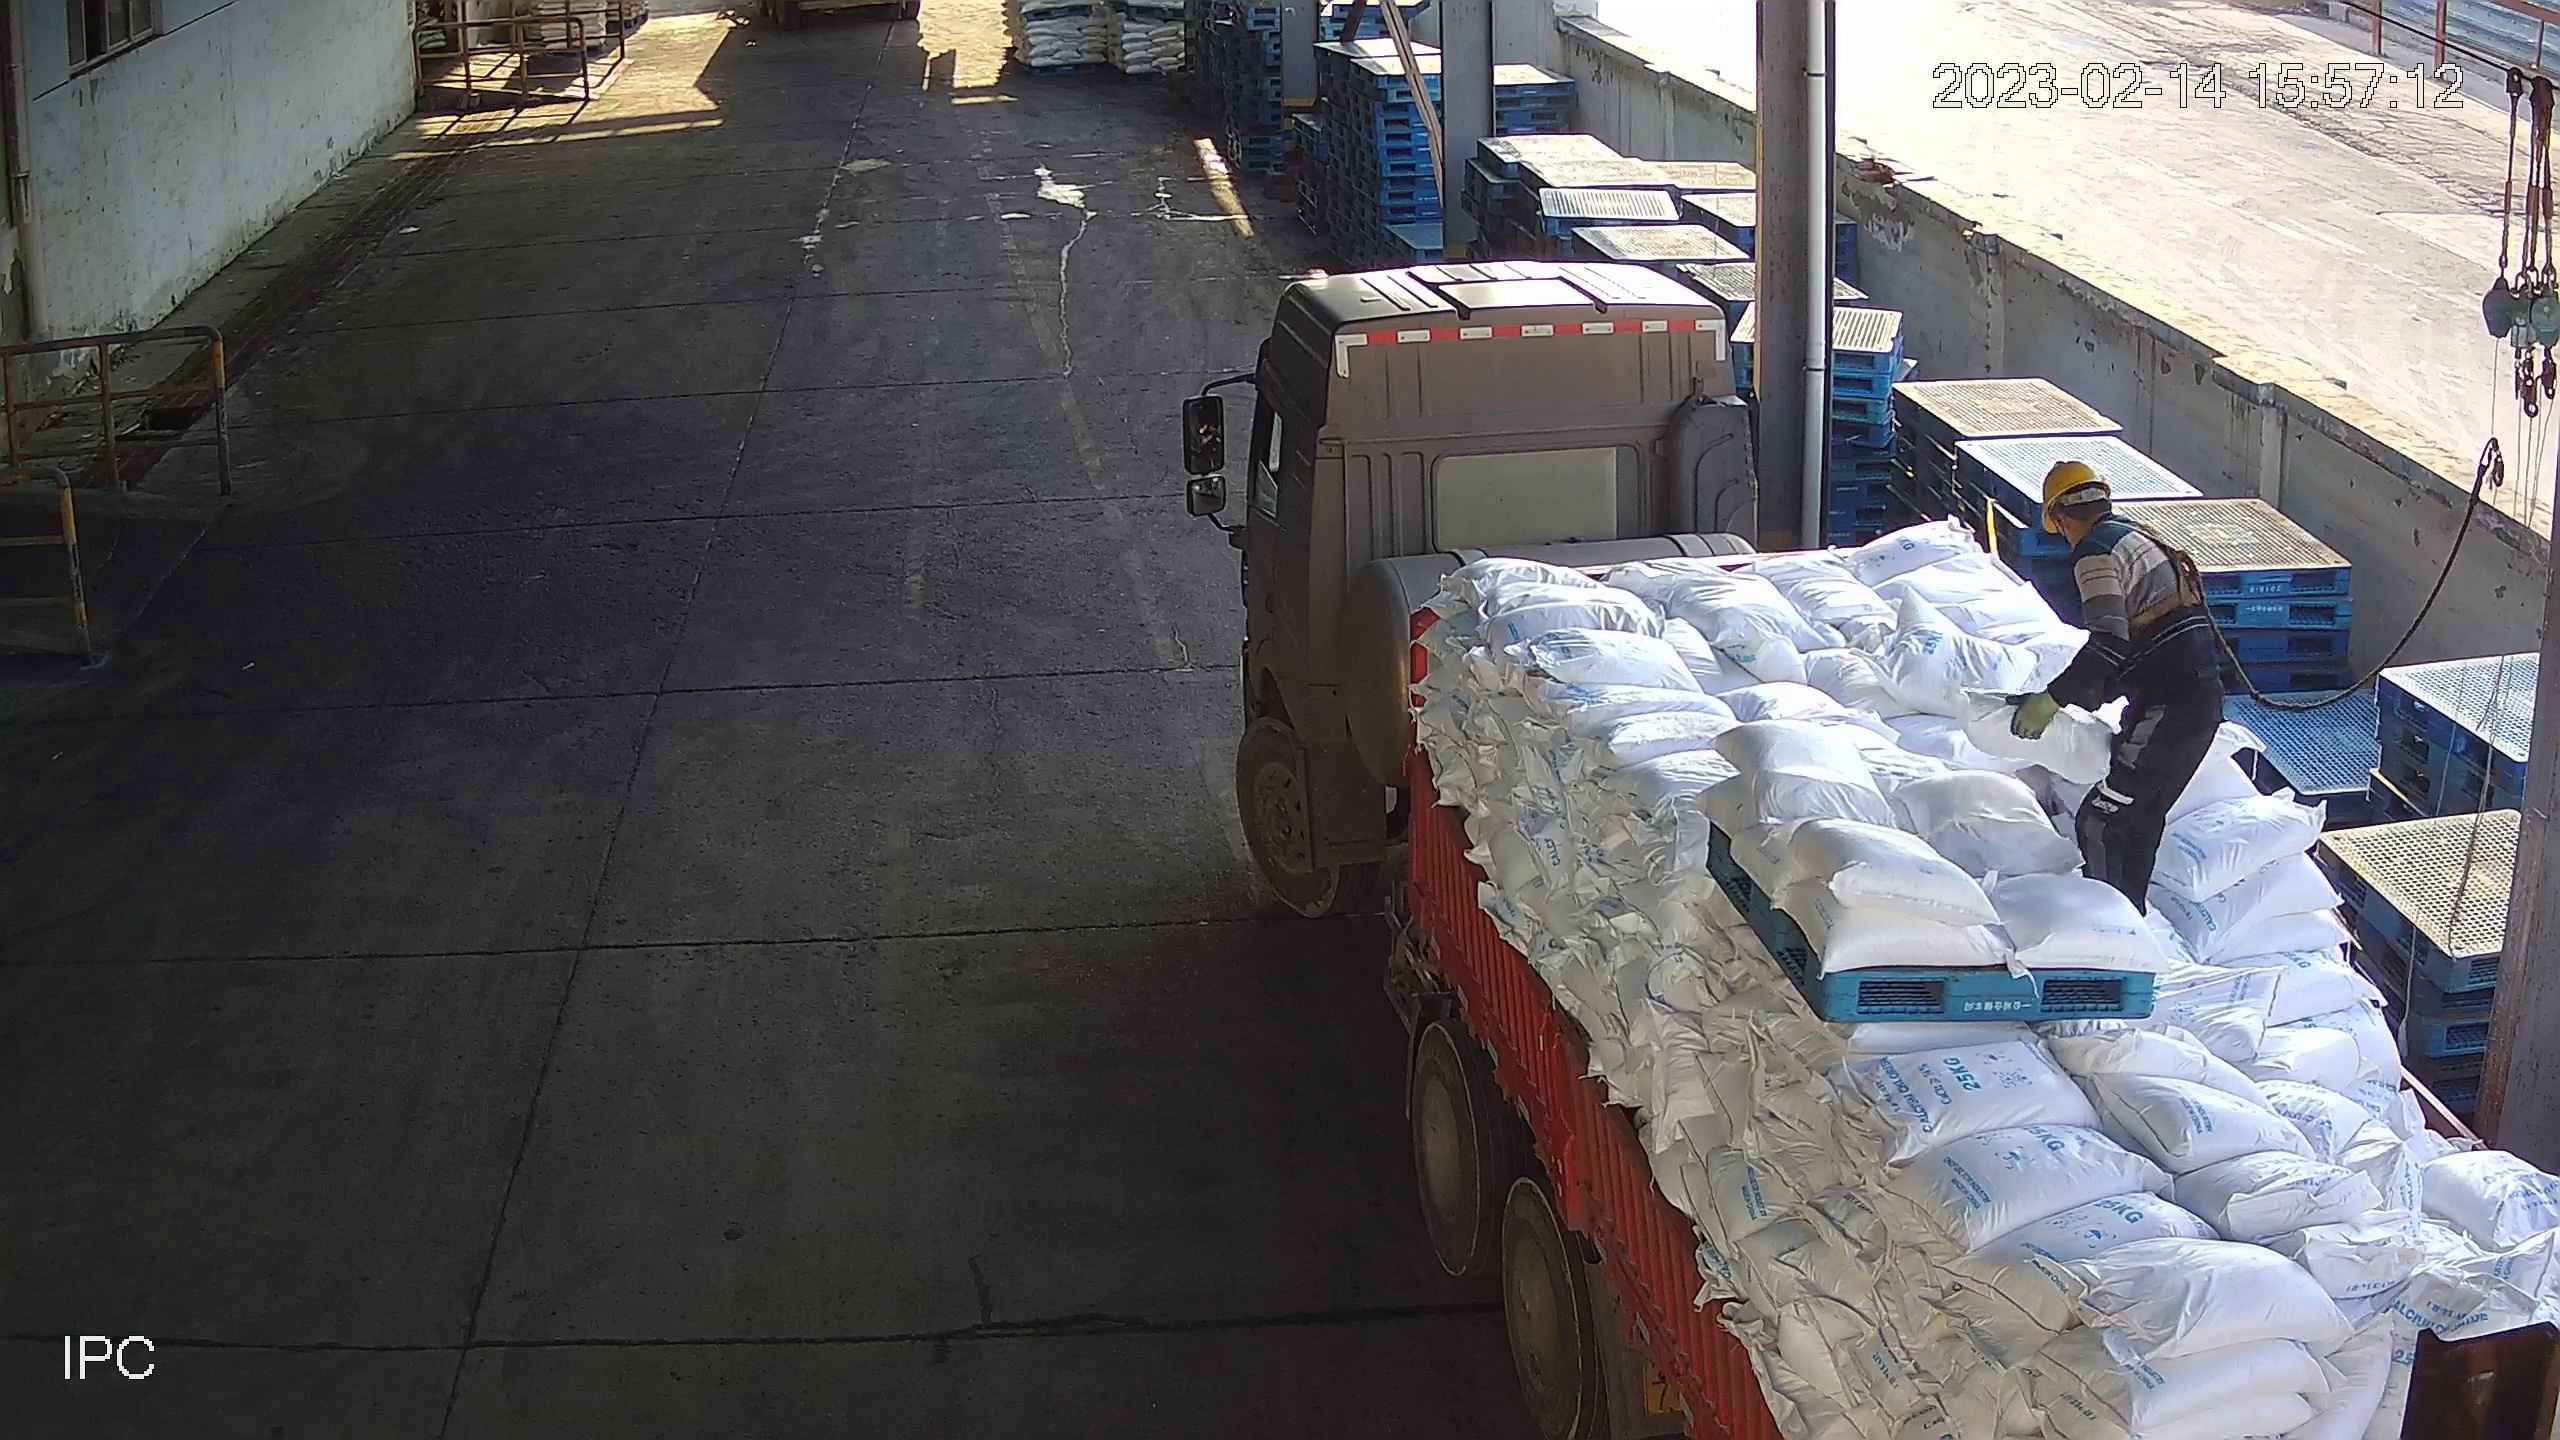belt: (2108, 516, 2210, 629)
head: (2039, 457, 2196, 587)
helmet: (2038, 459, 2113, 536)
people: (2007, 458, 2228, 920)
truck: (1231, 259, 2560, 1440)
